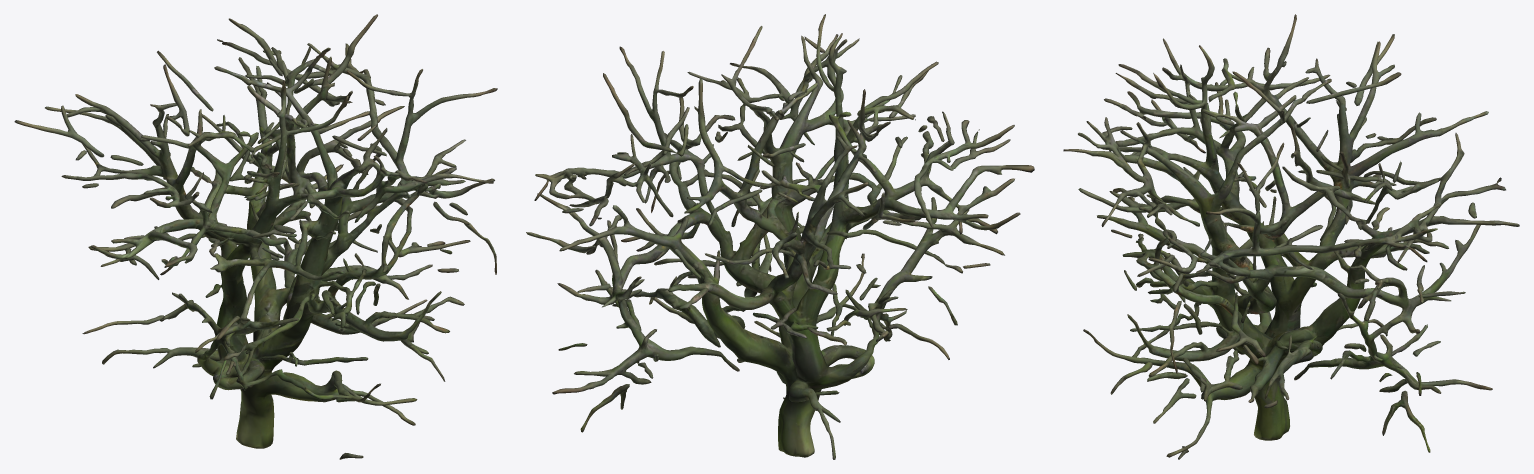
File: A_thorny_shrub_covere_0825143711_refine.fbx
3 renders of one model, left to right at view 1: azimuth 30°, elevation 25°; view 2: azimuth 150°, elevation 25°; view 3: azimuth 270°, elevation 25°, orthographic. The views are drawn at different scales.
Visible parts, largest first — view 1: Mesh_0; view 2: Mesh_0; view 3: Mesh_0.
Boxes of the visible parts, x1,y1,x2,y2 form: Mesh_0: (14,14,497,459); Mesh_0: (526,14,1034,459); Mesh_0: (1063,14,1519,459).
Bounding box in the file's own units: 200 × 188 × 199.
Materials: 1 (1 with a texture image).
